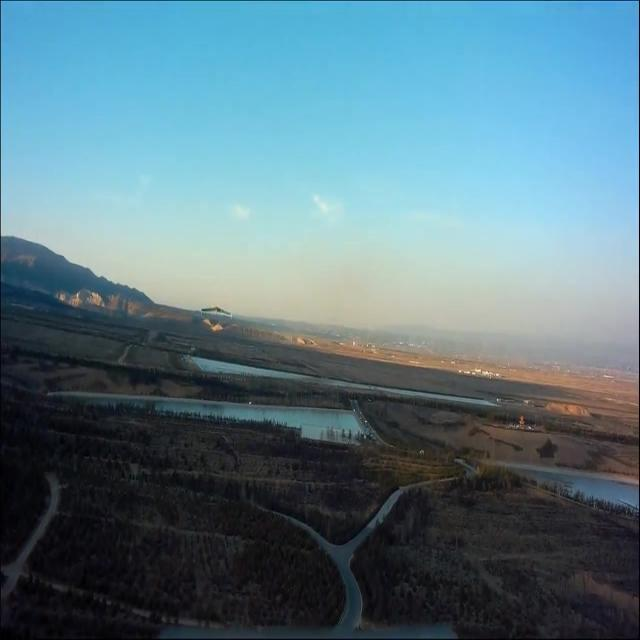iha: (201, 306, 233, 318)
